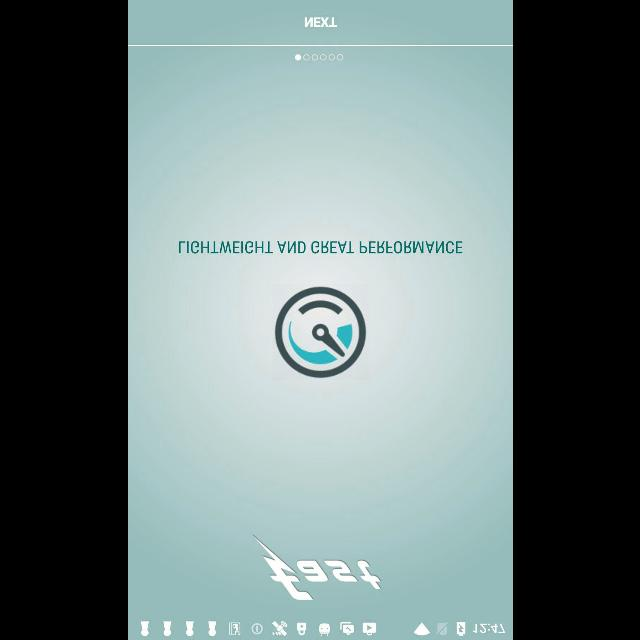image: (274, 286, 366, 378), (252, 536, 381, 600)
pageindicator: (294, 53, 342, 61)
text: (178, 240, 462, 254), (304, 17, 336, 27)
uppertaskbar: (128, 619, 512, 639)
